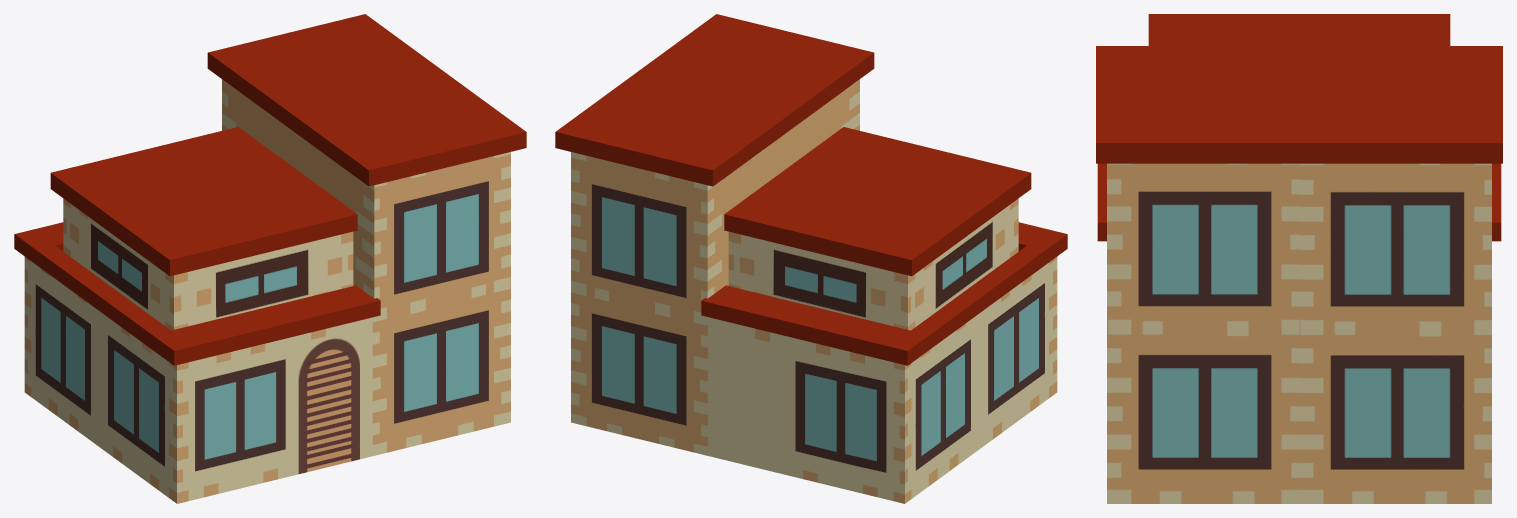
File: Building #26.fbx
3 renders of one model, left to right at view 1: azimuth 30°, elevation 25°; view 2: azimuth 150°, elevation 25°; view 3: azimuth 270°, elevation 25°, orthographic. The views are drawn at different scales.
Visible parts, largest first — view 1: BuildingG; view 2: BuildingG; view 3: BuildingG.
Boxes of the visible parts, x1,y1,x2,y2 form: BuildingG: (14, 14, 526, 503); BuildingG: (555, 14, 1067, 503); BuildingG: (1096, 14, 1502, 503).
Size of the model in its own units: 2979 by 2356 by 2363.
Materials: 1 (1 with a texture image).
